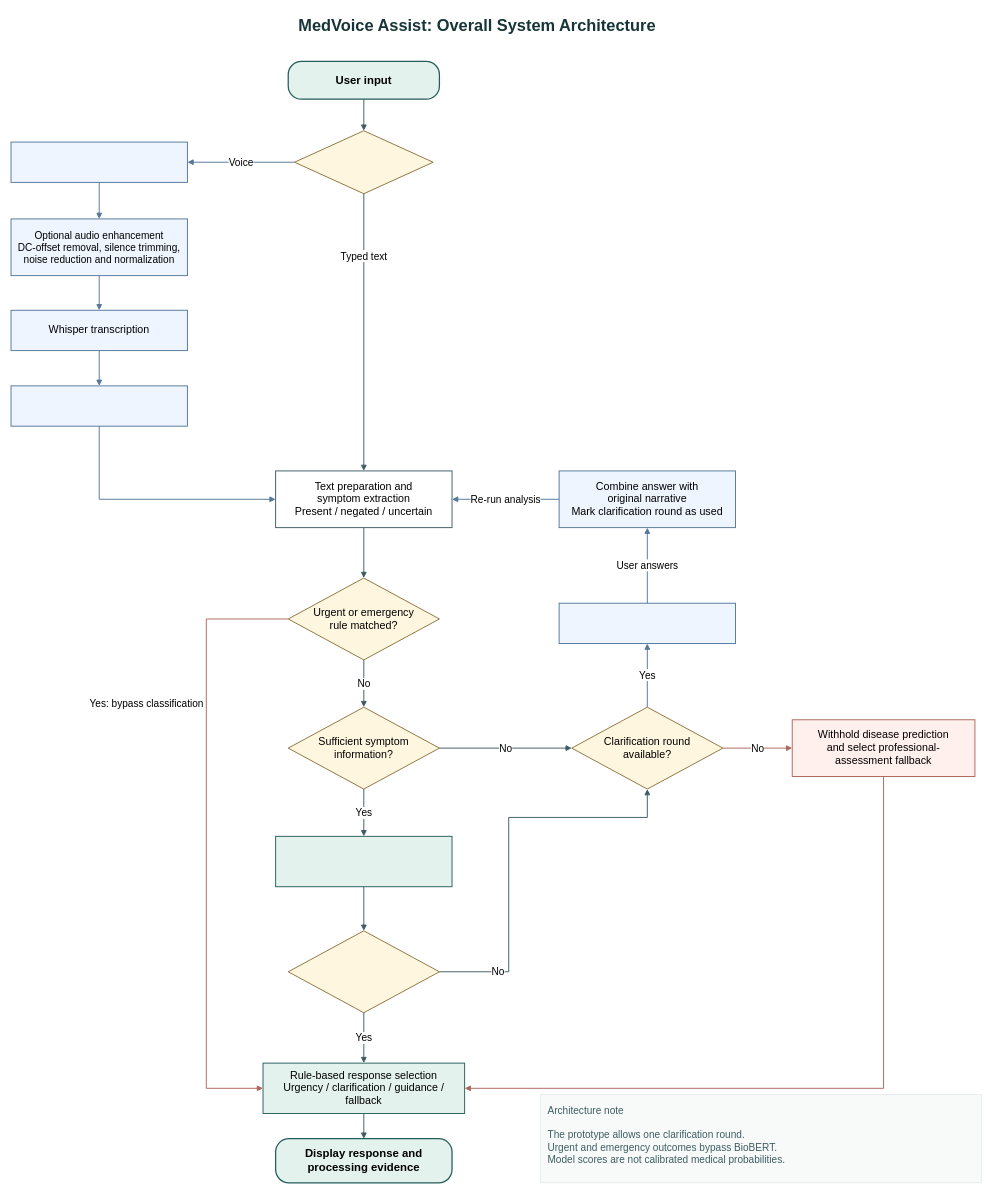
This 993x1194 diagram has some shape labels left out. Here are the shapes that lost their labels. From the top down, the centre of each, then its label:
the point at 99,162: Audio decoding and resampling to 16 kHz
the point at 363,162: Input type?
the point at 99,405: User transcript confirmation or correction
the point at 647,623: Ask a follow-up question
the point at 363,861: Trained BioBERT classification 773 disease classes
the point at 363,971: Score and ambiguity checks passed?
